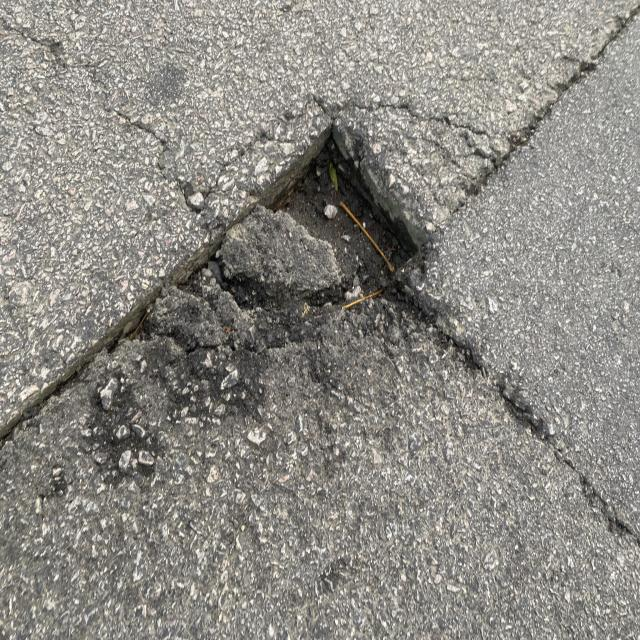pothole: (104, 88, 478, 367)
